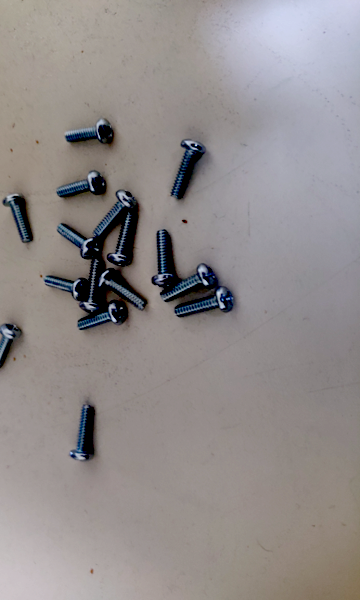shortscrew: (161, 264, 218, 303), (171, 139, 207, 199), (94, 190, 138, 239), (97, 268, 147, 311), (174, 287, 234, 318), (107, 212, 137, 267), (77, 300, 128, 331), (57, 223, 100, 259), (1, 194, 32, 243), (69, 404, 94, 462), (79, 258, 104, 315), (57, 171, 106, 199), (152, 230, 176, 287), (65, 118, 113, 146), (42, 276, 89, 303), (0, 323, 22, 372)
